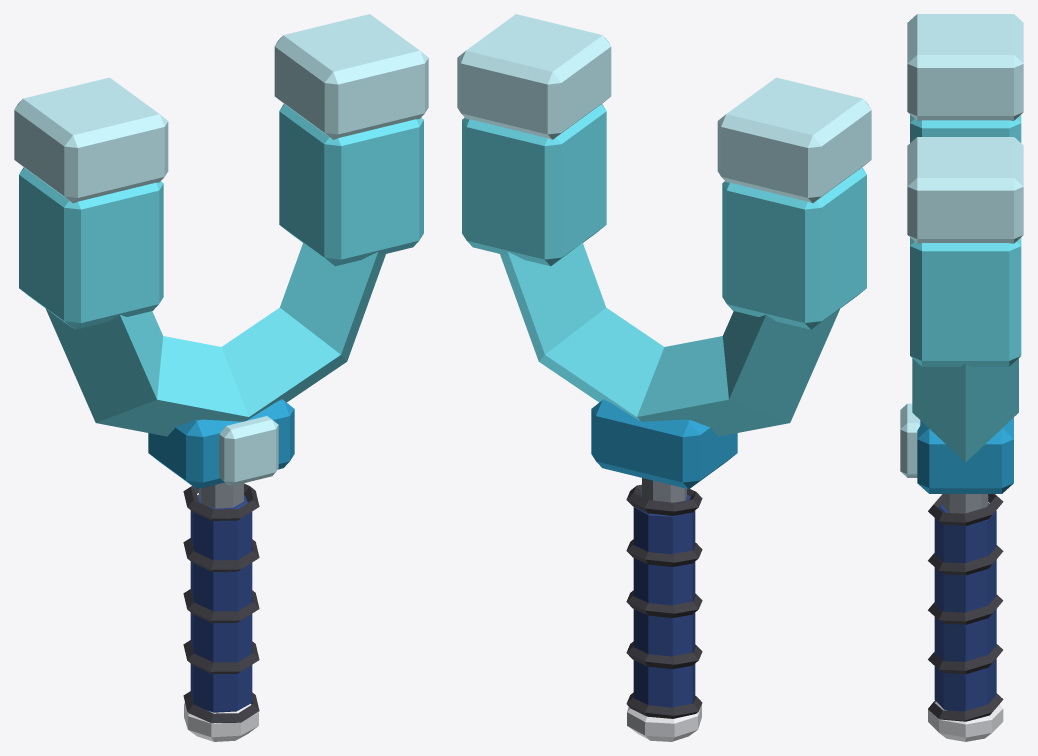
File: DiamondCoinMagnet.fbx
3 views of the same model, side by side, from view 1: azimuth 30°, elevation 25°; view 2: azimuth 150°, elevation 25°; view 3: azimuth 270°, elevation 25° (orthographic). The views are drawn at different scales.
Visible parts, largest first — view 1: DiamondCoinMagnet; view 2: DiamondCoinMagnet; view 3: DiamondCoinMagnet.
Part boxes in pixels (bbox=[...]): DiamondCoinMagnet: bbox=[14, 14, 428, 741]; DiamondCoinMagnet: bbox=[457, 14, 871, 741]; DiamondCoinMagnet: bbox=[900, 14, 1023, 741].
Size of the model in its own units: 1.68 by 2.89 by 0.51.
Materials: 1 (1 with a texture image).
